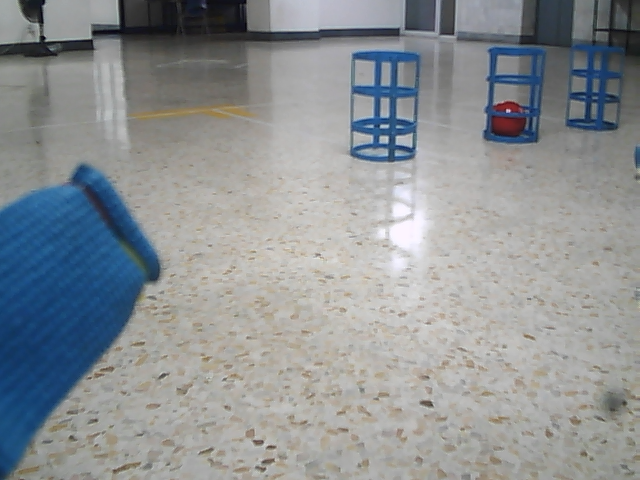Cyro: (346, 47, 421, 165), (481, 44, 547, 149), (564, 43, 627, 137)
Red ball: (490, 99, 526, 137)
